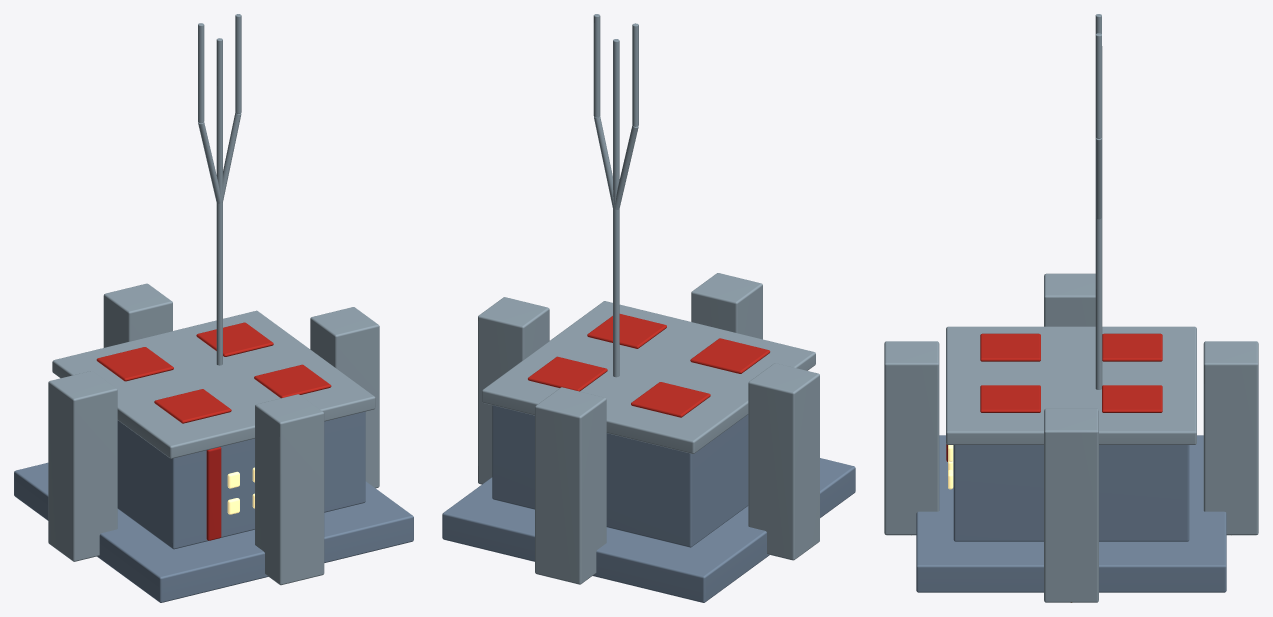
3 renders of one model, left to right at view 1: azimuth 30°, elevation 25°; view 2: azimuth 150°, elevation 25°; view 3: azimuth 270°, elevation 25°, orthographic. The views are drawn at different scales.
Visible parts, largest first — view 1: Block roof ledge, Modular block storey, Foundation slab, Block buttress.003, Block buttress.002, Block buttress, Block buttress.001, Aerial stem, Roof recessed opening.001, Roof recessed opening, Roof recessed opening.002, Vertical block colour strip (+5 smaller); view 2: Block roof ledge, Modular block storey, Foundation slab, Block buttress.001, Block buttress.002, Block buttress, Block buttress.003, Aerial stem, Roof recessed opening, Roof recessed opening.001, Roof recessed opening.003, Roof recessed opening.002 (+4 smaller); view 3: Block roof ledge, Modular block storey, Foundation slab, Block buttress, Block buttress.001, Block buttress.003, Block buttress.002, Roof recessed opening, Roof recessed opening.001, Roof recessed opening.002, Roof recessed opening.003, Aerial stem (+2 smaller).
Boxes of the visible parts, x1=… form: Block roof ledge: x1=52, y1=310, x2=375, y2=458; Modular block storey: x1=117, y1=411, x2=365, y2=549; Foundation slab: x1=14, y1=462, x2=413, y2=602; Block buttress.003: x1=255, y1=394, x2=324, y2=585; Block buttress.002: x1=48, y1=371, x2=117, y2=561; Block buttress: x1=310, y1=307, x2=379, y2=488; Block buttress.001: x1=103, y1=283, x2=172, y2=347; Aerial stem: x1=216, y1=38, x2=222, y2=365; Roof recessed opening.001: x1=96, y1=347, x2=173, y2=381; Roof recessed opening: x1=154, y1=389, x2=231, y2=423; Roof recessed opening.002: x1=254, y1=364, x2=331, y2=398; Vertical block colour strip: x1=206, y1=447, x2=221, y2=540; Block roof ledge: x1=482, y1=301, x2=815, y2=453; Modular block storey: x1=492, y1=405, x2=748, y2=547; Foundation slab: x1=442, y1=458, x2=855, y2=602; Block buttress.001: x1=535, y1=387, x2=606, y2=584; Block buttress.002: x1=748, y1=363, x2=819, y2=560; Block buttress: x1=478, y1=297, x2=549, y2=484; Block buttress.003: x1=691, y1=273, x2=762, y2=339; Aerial stem: x1=613, y1=39, x2=619, y2=377; Roof recessed opening: x1=690, y1=338, x2=770, y2=373; Roof recessed opening.001: x1=631, y1=382, x2=710, y2=417; Roof recessed opening.003: x1=528, y1=356, x2=607, y2=391; Roof recessed opening.002: x1=587, y1=314, x2=666, y2=348; Block roof ledge: x1=946, y1=326, x2=1196, y2=444; Modular block storey: x1=953, y1=445, x2=1189, y2=541; Foundation slab: x1=916, y1=435, x2=1226, y2=592; Block buttress: x1=1044, y1=408, x2=1098, y2=602; Block buttress.001: x1=1203, y1=341, x2=1258, y2=535; Block buttress.003: x1=884, y1=341, x2=939, y2=535; Block buttress.002: x1=1044, y1=273, x2=1095, y2=326; Roof recessed opening: x1=980, y1=333, x2=1040, y2=361; Roof recessed opening.001: x1=1102, y1=333, x2=1162, y2=361; Roof recessed opening.002: x1=980, y1=385, x2=1040, y2=412; Roof recessed opening.003: x1=1102, y1=385, x2=1162, y2=412; Aerial stem: x1=1095, y1=46, x2=1102, y2=389.
Size of the model in its own units: 2.46 by 3.72 by 2.46.
